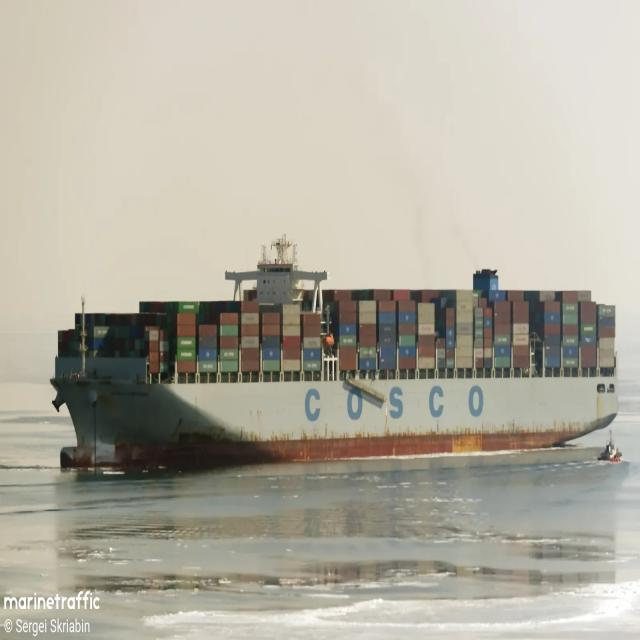Cargo: (50, 236, 618, 468)
Tug: (598, 431, 622, 462)
